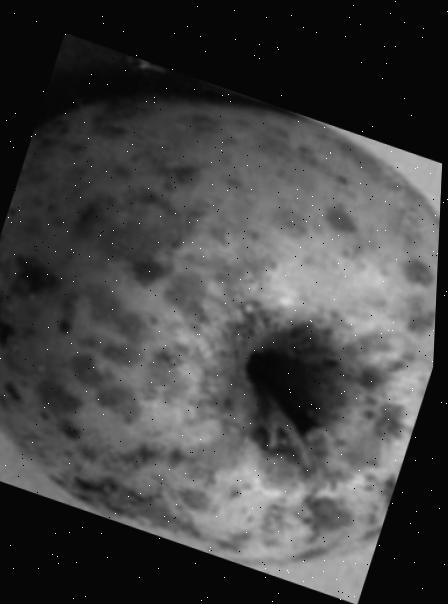BLOTCH: (0, 30, 447, 593)
